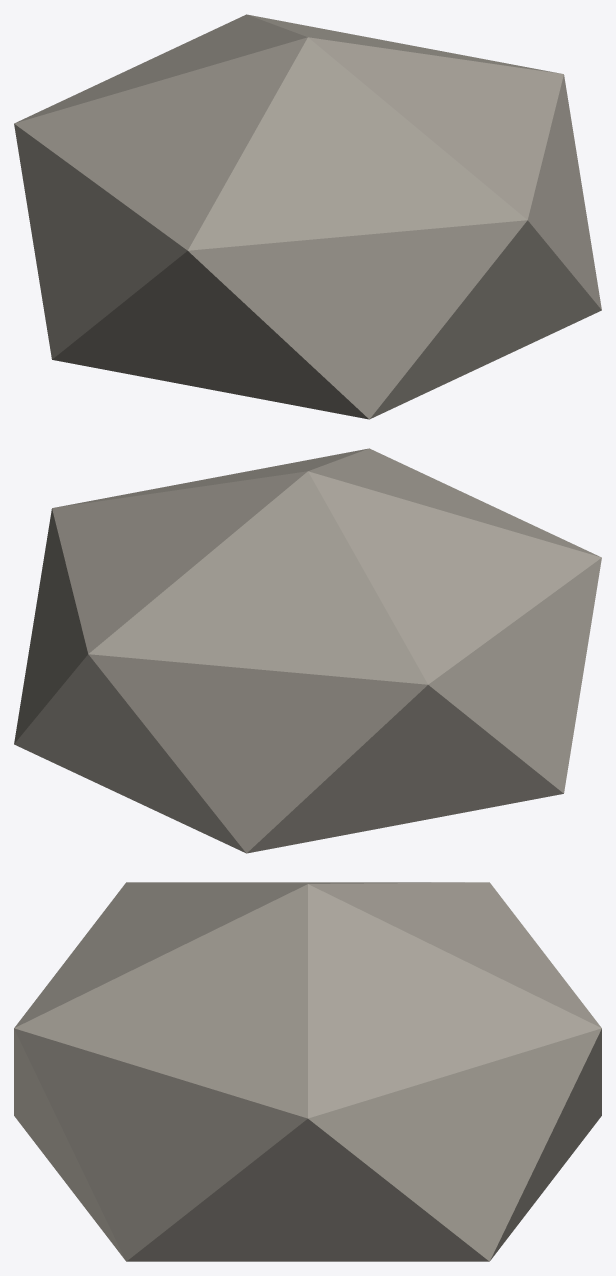
The model's file is prop_rock.fbx.
3 views of the same model, one above another, from view 1: azimuth 30°, elevation 25°; view 2: azimuth 150°, elevation 25°; view 3: azimuth 270°, elevation 25° (orthographic). The views are drawn at different scales.
Visible parts, largest first — view 1: prop_rock; view 2: prop_rock; view 3: prop_rock.
Boxes of the visible parts, bbox=[...] form: prop_rock: bbox=[14, 14, 601, 419]; prop_rock: bbox=[14, 448, 601, 853]; prop_rock: bbox=[14, 882, 601, 1261].
Size of the model in its own units: 1.07 by 0.72 by 1.02.
Materials: 1 (1 with a texture image).
